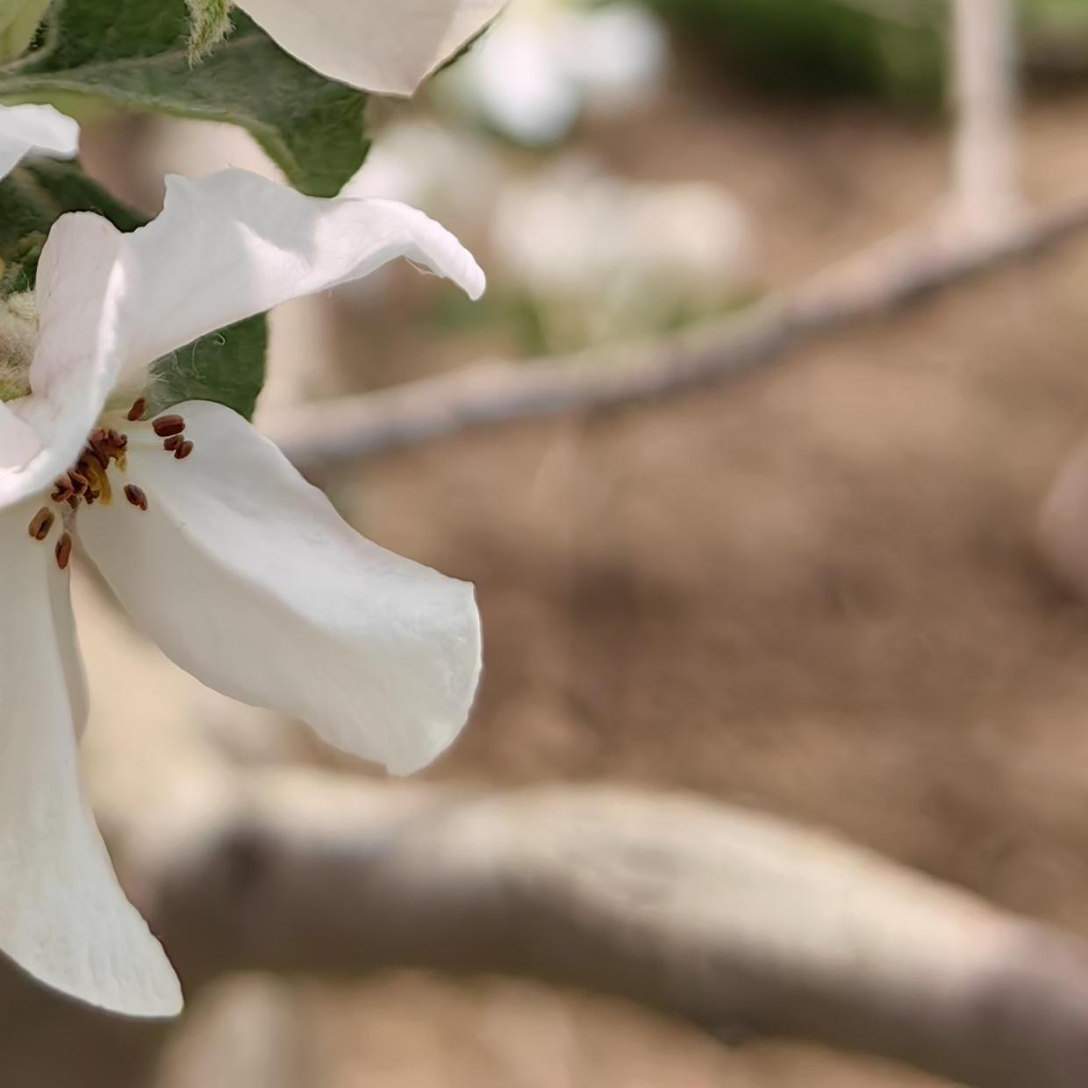apple_flower: (0, 172, 483, 1020), (231, 0, 508, 95)
